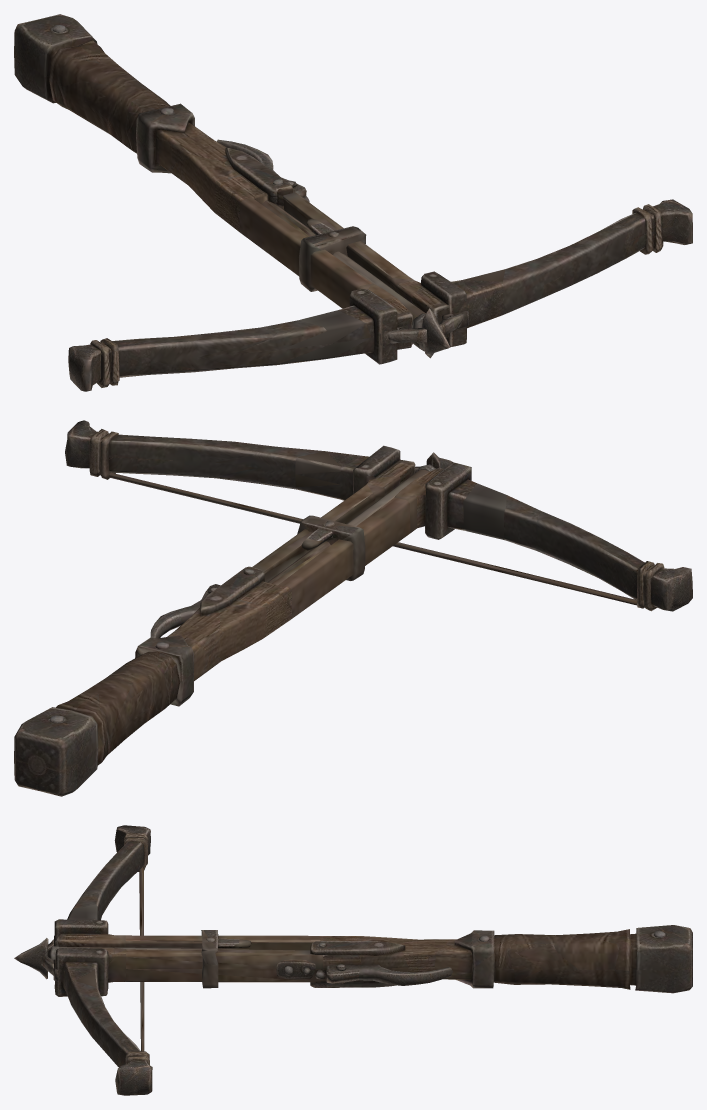
File: skeleton_crossbow.glb
The picture shows the model from 3 angles, top to bottom: view 1: azimuth 30°, elevation 25°; view 2: azimuth 150°, elevation 25°; view 3: azimuth 270°, elevation 25°; orthographic projection. The views are drawn at different scales.
Visible parts, largest first — view 1: skeleton_crossbow; view 2: skeleton_crossbow; view 3: skeleton_crossbow.
Boxes of the visible parts, <box> form: skeleton_crossbow: <box>14,14,692,391</box>; skeleton_crossbow: <box>14,420,692,796</box>; skeleton_crossbow: <box>14,825,692,1095</box>.
Size of the model in its own units: 1.11 by 0.1168 by 1.3.
1 material, 1 textured.
